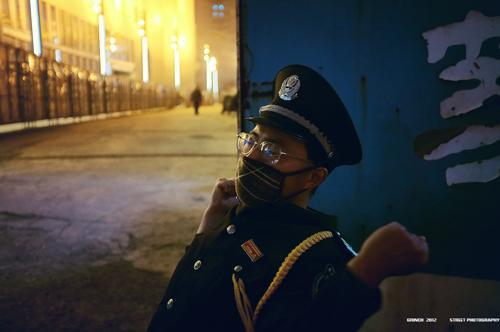OK: (233, 128, 309, 204)
